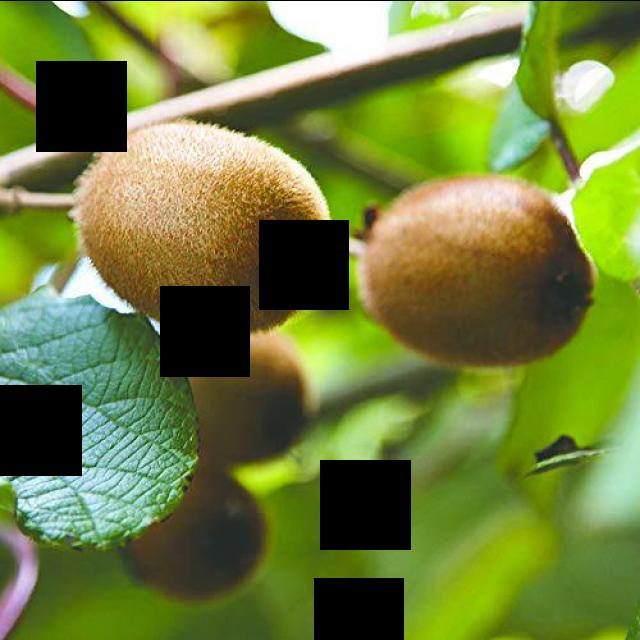kiwi: (67, 112, 329, 342), (355, 164, 603, 378), (99, 452, 275, 614), (157, 324, 319, 476)
